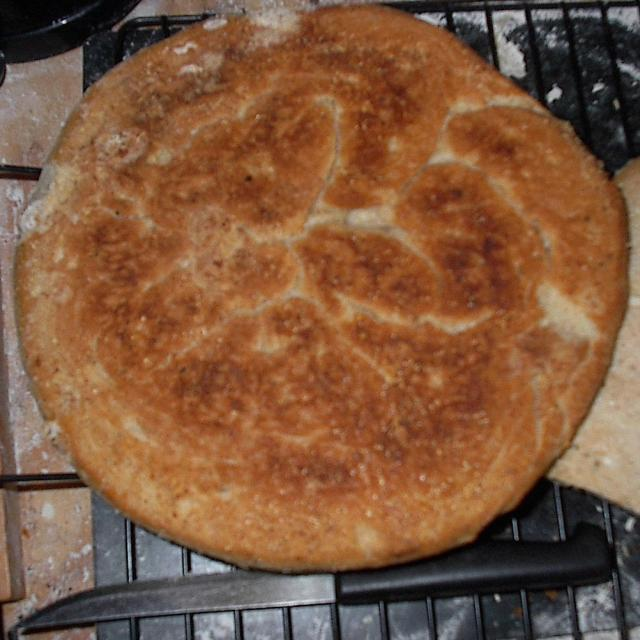Bread: (0, 0, 623, 616)
